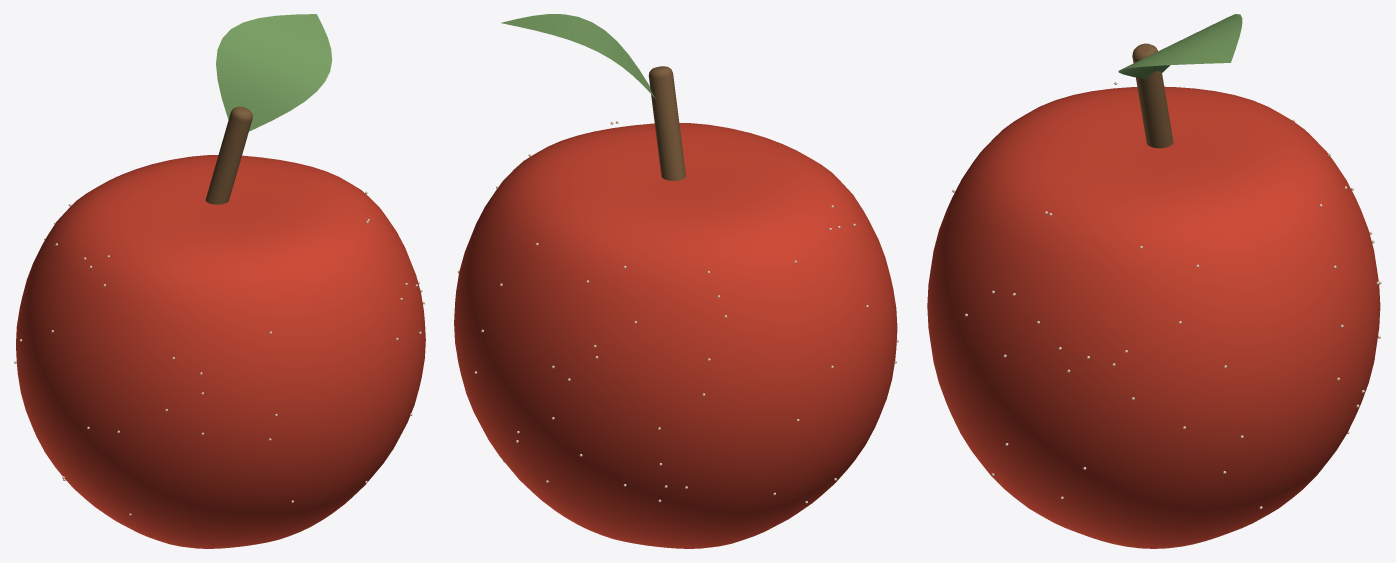
The model's file is apple.glb.
The picture shows the model from 3 angles, left to right: view 1: azimuth 30°, elevation 25°; view 2: azimuth 150°, elevation 25°; view 3: azimuth 270°, elevation 25°; orthographic projection. The views are drawn at different scales.
Parts seen in each view (by area): view 1: sculpted apple, leaf, apple stem; view 2: sculpted apple, apple stem, leaf; view 3: sculpted apple, leaf, apple stem.
Part boxes in pixels (box(x1,y1,x2,y2)): sculpted apple: box(16, 155, 425, 548); leaf: box(216, 14, 332, 131); apple stem: box(205, 106, 252, 204); sculpted apple: box(454, 123, 897, 548); apple stem: box(648, 66, 685, 180); leaf: box(501, 14, 656, 99); sculpted apple: box(927, 86, 1380, 548); leaf: box(1118, 14, 1242, 79); apple stem: box(1132, 43, 1173, 148).
Bounding box in the file's own units: 0.4712 × 0.5809 × 0.4412.
